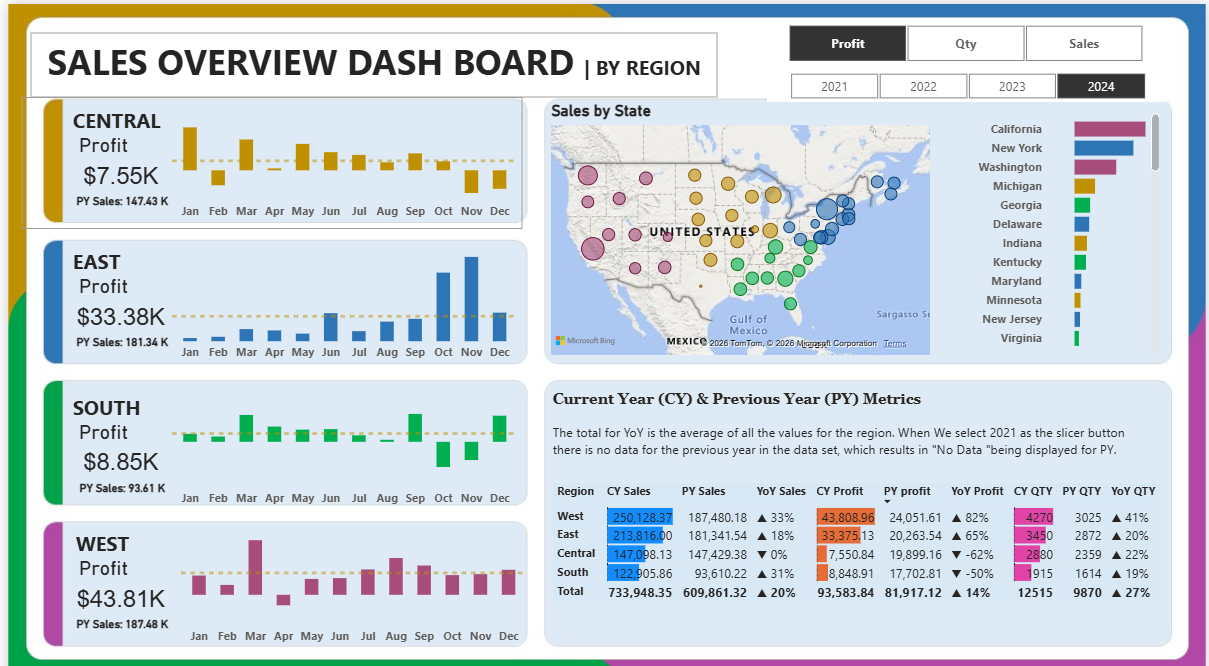

Layout of this report page (visuals, bound fields, positions):
{"tool":"powerbi","page":{"name":"Page 1","canvas":[1280,720],"ordinal":0},"visuals":[{"type":"slicer","fields":{"Values":["select metric.select metric"]},"box":[810.1,15.9,426.9,51.6],"z":0},{"type":"slicer","fields":{"Values":["Calendar Table.YEAR"]},"box":[810.7,67.6,427.8,37.1],"z":1000},{"type":"card","fields":{"Values":["Sales Data.Total profit"]},"box":[14.3,149.5,211.6,68.4],"z":1000,"group":"g1"},{"type":"card","fields":{"Values":["Sales Data.Total profit"]},"box":[13.8,299.5,211.6,68.4],"z":1000,"group":"g2"},{"type":"card","fields":{"Values":["Sales Data.Total profit"]},"box":[13.8,455.7,211.6,68.4],"z":1000,"group":"g3"},{"type":"card","fields":{"Values":["Sales Data.Total profit"]},"box":[13.8,600.1,211.6,68.4],"z":1000,"group":"g4"},{"type":"textbox","box":[23.8,29.8,734.6,69.5],"z":2000},{"type":"group","id":"g1","title":"Group 1","box":[14.3,100,535.7,140.2],"z":3000},{"type":"textbox","box":[63.6,105,141.6,39.8],"z":3000,"group":"g1"},{"type":"textbox","box":[63.1,255,141.6,39.8],"z":3000,"group":"g2"},{"type":"textbox","box":[63.1,411.2,141.6,39.8],"z":3000,"group":"g3"},{"type":"textbox","box":[66.9,555,143.8,51.2],"z":3000,"group":"g4"},{"type":"card","fields":{"Values":["Sales Data.Dynamic Title"]},"box":[15,128.3,175,43.3],"z":4000,"group":"g1"},{"type":"group","id":"g2","title":"Group 1","box":[13.8,250,536.2,140],"z":4000},{"type":"card","fields":{"Values":["Sales Data.Dynamic Title"]},"box":[14.5,278.3,175,43.3],"z":4000,"group":"g2"},{"type":"card","fields":{"Values":["Sales Data.Dynamic Title"]},"box":[14.5,434.5,175,43.3],"z":4000,"group":"g3"},{"type":"card","fields":{"Values":["Sales Data.Dynamic Title"]},"box":[14.5,579,175,43.3],"z":4000,"group":"g4"},{"type":"card","fields":{"Values":["Sales Data.PY KPI Sales"]},"box":[23.8,184.5,195.6,55.7],"z":5000,"group":"g1"},{"type":"card","fields":{"Values":["Sales Data.PY KPI Sales"]},"box":[23.3,334.5,195.6,55.7],"z":5000,"group":"g2"},{"type":"group","id":"g3","title":"Group 1","box":[13.8,406.2,536.2,140],"z":5000},{"type":"card","fields":{"Values":["Sales Data.PY KPI Sales"]},"box":[23.3,490.7,195.6,55.7],"z":5000,"group":"g3"},{"type":"card","fields":{"Values":["Sales Data.PY KPI Sales"]},"box":[23.3,635.1,195.6,55.7],"z":5000,"group":"g4"},{"type":"clusteredColumnChart","fields":{"Y":["Sales Data.Total profit"],"Category":["Calendar Table.MONTH"]},"box":[170,100,380,140],"z":6000,"group":"g1"},{"type":"clusteredColumnChart","fields":{"Y":["Sales Data.Total profit"],"Category":["Calendar Table.MONTH"]},"box":[169.5,250,380,140],"z":6000,"group":"g2"},{"type":"clusteredColumnChart","fields":{"Y":["Sales Data.Total profit"],"Category":["Calendar Table.MONTH"]},"box":[169.5,406.2,380,140],"z":6000,"group":"g3"},{"type":"group","id":"g4","title":"Group 1","box":[13.8,552.5,545.3,140],"z":6000},{"type":"clusteredColumnChart","fields":{"Y":["Sales Data.Total profit"],"Category":["Calendar Table.MONTH"]},"box":[179.1,552.5,380,140],"z":6000,"group":"g4"},{"type":"map","title":"Sales by State","fields":{"Size":["Sales Data.Total profit"],"Category":["Sales Data.State/Province"],"Series":["Sales Data.Region"]},"box":[576.2,105,415,275],"z":7000},{"type":"barChart","fields":{"Y":["Sales Data.Total profit"],"Category":["Sales Data.State/Province"],"Series":["Sales Data.Region"]},"box":[991.4,104.3,244.3,274.3],"z":8000},{"type":"pivotTable","fields":{"Values":["Sales Data.CY Sales","Sales Data.PY Sales","Sales Data.YoY Sales","Sales Data.CY Profit","Sales Data.PY profit","Sales Data.YoY Profit","Sales Data.CY QTY","Sales Data.PY QTY","Sales Data.YoY QTY"],"Rows":["Sales Data.Region"]},"box":[576.7,506.7,661.7,180],"z":9000},{"type":"textbox","box":[576.7,406.7,641.7,100],"z":10000}]}

Visuals, with their boxes in screenshot pixels (x1, y1, x2, y2), scaled from the page's 1280x720 canvas onto the 1209x666 screenshot:
slicer - select metric.select metric: detection(765, 15, 1168, 62)
slicer - Calendar Table.YEAR: detection(766, 63, 1170, 97)
card - Sales Data.Total profit: detection(14, 138, 213, 202)
card - Sales Data.Total profit: detection(13, 277, 213, 340)
card - Sales Data.Total profit: detection(13, 422, 213, 485)
card - Sales Data.Total profit: detection(13, 555, 213, 618)
textbox: detection(22, 28, 716, 92)
"Group 1" group: detection(14, 92, 519, 222)
textbox: detection(60, 97, 194, 134)
textbox: detection(60, 236, 193, 273)
textbox: detection(60, 380, 193, 417)
textbox: detection(63, 513, 199, 561)
card - Sales Data.Dynamic Title: detection(14, 119, 179, 159)
"Group 1" group: detection(13, 231, 519, 361)
card - Sales Data.Dynamic Title: detection(14, 257, 179, 297)
card - Sales Data.Dynamic Title: detection(14, 402, 179, 442)
card - Sales Data.Dynamic Title: detection(14, 536, 179, 576)
card - Sales Data.PY KPI Sales: detection(22, 171, 207, 222)
card - Sales Data.PY KPI Sales: detection(22, 309, 207, 361)
"Group 1" group: detection(13, 376, 519, 505)
card - Sales Data.PY KPI Sales: detection(22, 454, 207, 505)
card - Sales Data.PY KPI Sales: detection(22, 587, 207, 639)
clusteredColumnChart - Sales Data.Total profit x Calendar Table.MONTH: detection(161, 92, 519, 222)
clusteredColumnChart - Sales Data.Total profit x Calendar Table.MONTH: detection(160, 231, 519, 361)
clusteredColumnChart - Sales Data.Total profit x Calendar Table.MONTH: detection(160, 376, 519, 505)
"Group 1" group: detection(13, 511, 528, 641)
clusteredColumnChart - Sales Data.Total profit x Calendar Table.MONTH: detection(169, 511, 528, 641)
"Sales by State" map: detection(544, 97, 936, 352)
barChart - Sales Data.Total profit x Sales Data.State/Province: detection(936, 96, 1167, 350)
pivotTable - Sales Data.CY Sales x Sales Data.PY Sales: detection(545, 469, 1170, 635)
textbox: detection(545, 376, 1151, 469)
